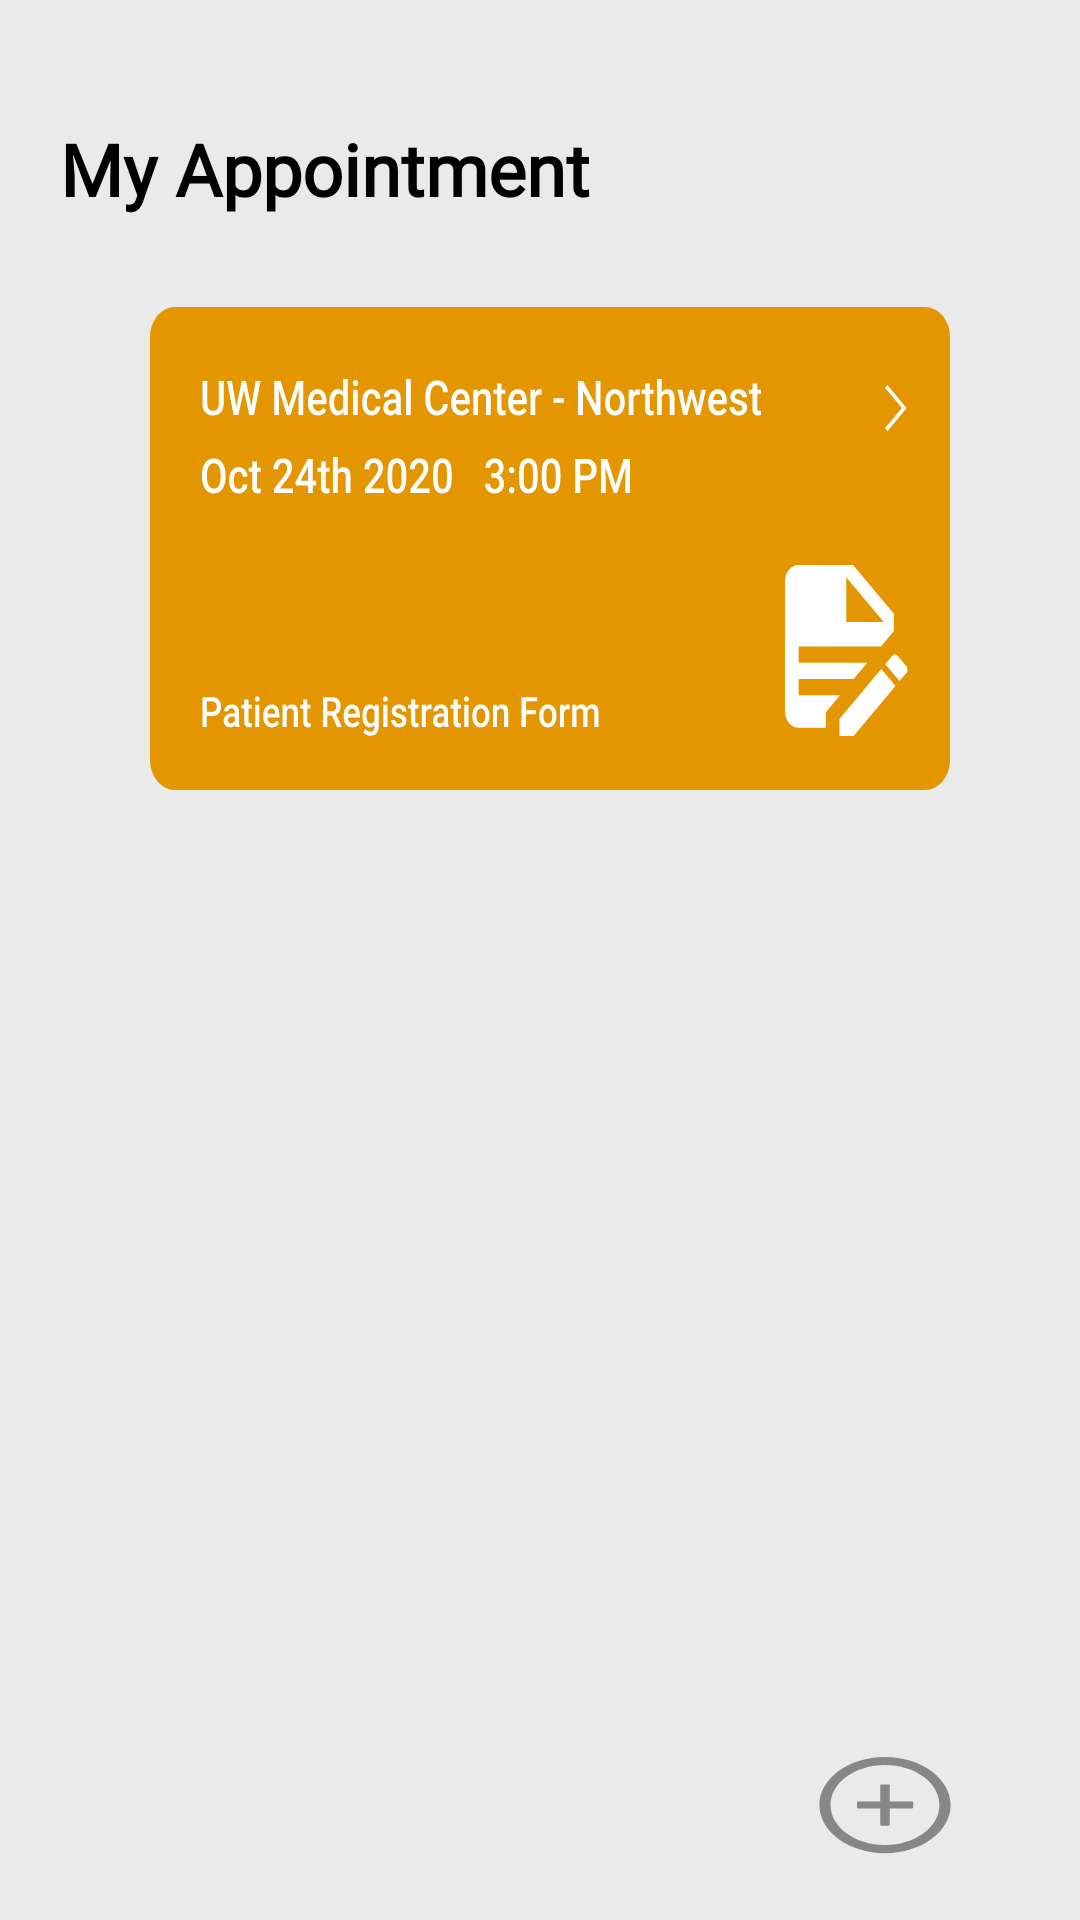

Icon bounding boxes for this 1080 x 1920 phone screenshot, format bbox=[x1, y1, x2, y2]:
ant design plus circle: bbox=[819, 1757, 951, 1853]
